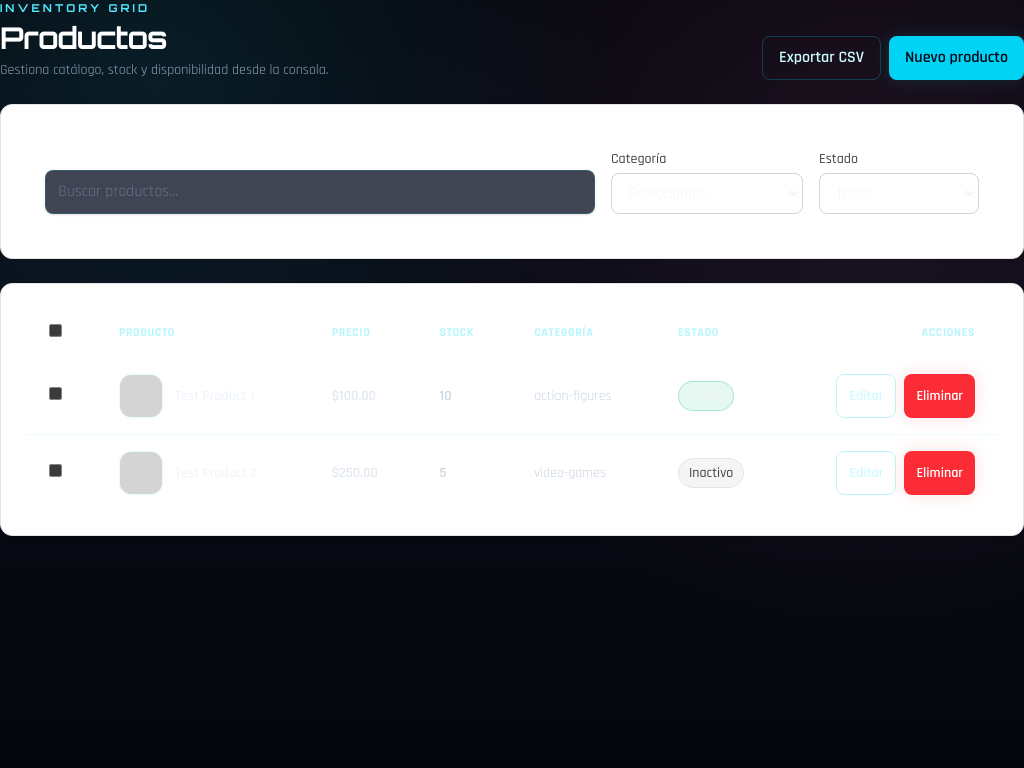
AdminProductsPage › shows delete confirmation modal when delete clicked
This screenshot has width=1024, height=768.
Click the button "Eliminar" in the row of "Test Product 1" at (940, 396), box left=904, top=374, right=975, bottom=418
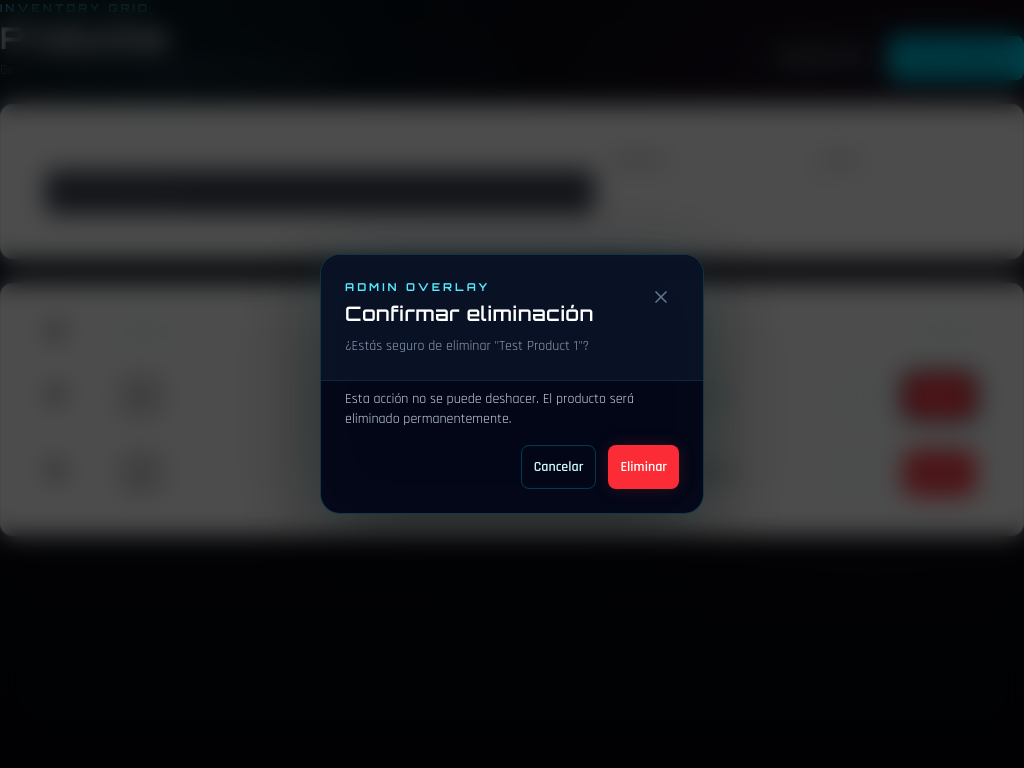
Check: the button "Cancelar" is shown, box left=521, top=445, right=596, bottom=489
